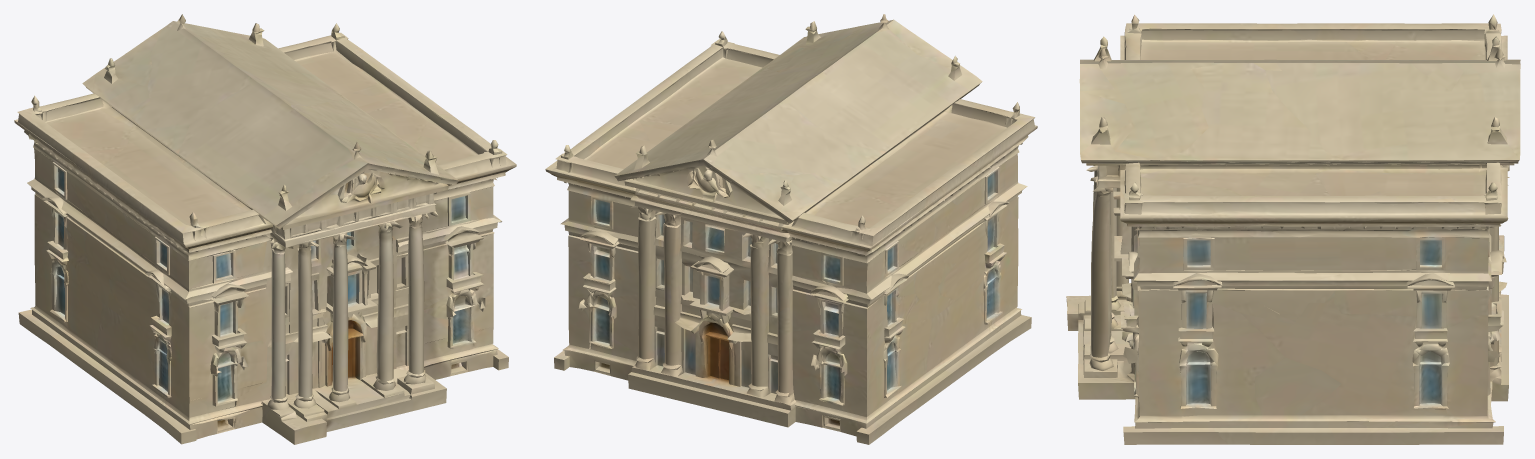
File: base_basic_pbr.glb
3 views of the same model, side by side, from view 1: azimuth 30°, elevation 25°; view 2: azimuth 150°, elevation 25°; view 3: azimuth 270°, elevation 25° (orthographic). The views are drawn at different scales.
Visible parts, largest first — view 1: model; view 2: model; view 3: model.
Part boxes in pixels (x1=…): model: x1=14, y1=14, x2=516, y2=444; model: x1=545, y1=14, x2=1037, y2=444; model: x1=1066, y1=14, x2=1520, y2=444.
Size of the model in its own units: 1.81 by 1.42 by 1.89.
Materials: 1 (1 with a texture image).
